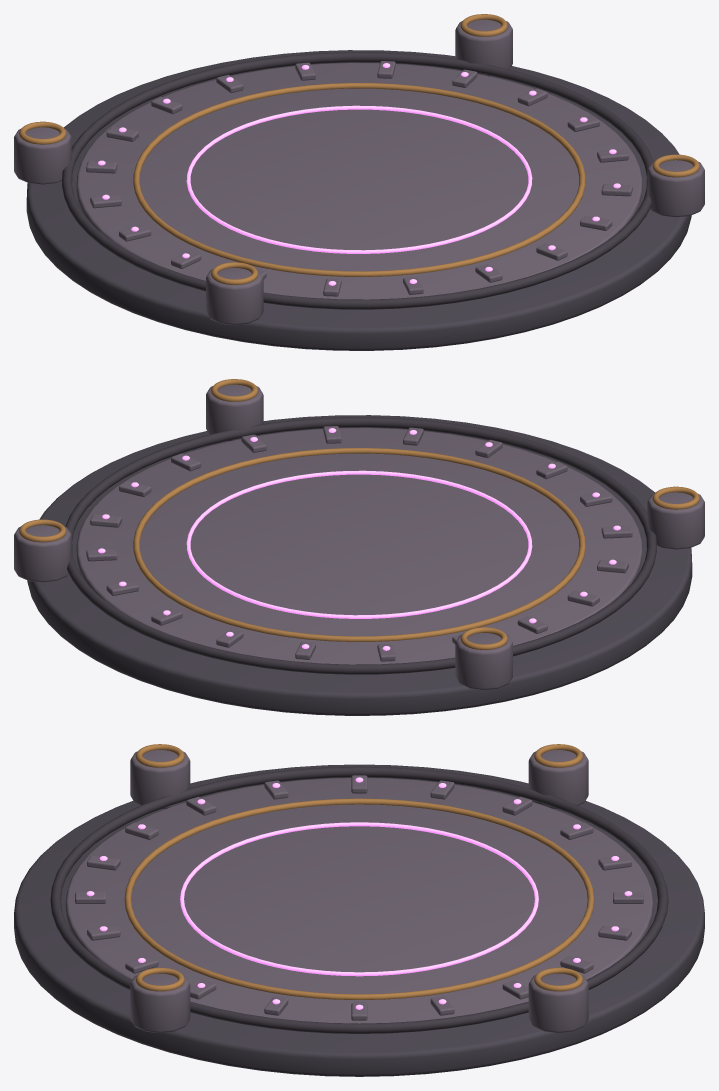
The model's file is hero-arena-dais.glb.
The picture shows the model from 3 angles, top to bottom: view 1: azimuth 30°, elevation 25°; view 2: azimuth 150°, elevation 25°; view 3: azimuth 270°, elevation 25°; orthographic projection. The views are drawn at different scales.
Parts seen in each view (by area): view 1: Arena_inner_dais, Arena_outer_dais, Arena_outer_trim, Arena_brass_circle, Arena_rune_circle, Arena_brazier_base_0, Arena_brazier_base_1, Arena_brazier_base_2, Arena_brazier_base_3, Arena_brazier_ring_1, Arena_brazier_ring_0, Arena_brazier_ring_2 (+1 smaller); view 2: Arena_inner_dais, Arena_outer_dais, Arena_outer_trim, Arena_brass_circle, Arena_rune_circle, Arena_brazier_base_2, Arena_brazier_base_3, Arena_brazier_base_0, Arena_brazier_base_1, Arena_brazier_ring_3, Arena_brazier_ring_0, Arena_brazier_ring_2 (+1 smaller); view 3: Arena_inner_dais, Arena_outer_dais, Arena_outer_trim, Arena_brass_circle, Arena_rune_circle, Arena_brazier_base_1, Arena_brazier_base_3, Arena_brazier_base_0, Arena_brazier_base_2, Arena_brazier_ring_1, Arena_brazier_ring_3, Arena_brazier_ring_0 (+1 smaller).
Part boxes in pixels (x1=…): Arena_inner_dais: x1=76, y1=63, x2=642, y2=299; Arena_outer_dais: x1=26, y1=50, x2=691, y2=350; Arena_outer_trim: x1=62, y1=52, x2=653, y2=309; Arena_brass_circle: x1=133, y1=83, x2=585, y2=276; Arena_rune_circle: x1=186, y1=105, x2=532, y2=253; Arena_brazier_base_0: x1=206, y1=268, x2=263, y2=325; Arena_brazier_base_1: x1=647, y1=160, x2=704, y2=217; Arena_brazier_base_2: x1=14, y1=127, x2=71, y2=184; Arena_brazier_base_3: x1=455, y1=19, x2=512, y2=76; Arena_brazier_ring_1: x1=652, y1=154, x2=699, y2=177; Arena_brazier_ring_0: x1=211, y1=262, x2=258, y2=284; Arena_brazier_ring_2: x1=19, y1=121, x2=66, y2=144; Arena_inner_dais: x1=76, y1=428, x2=642, y2=664; Arena_outer_dais: x1=27, y1=415, x2=692, y2=715; Arena_outer_trim: x1=65, y1=417, x2=656, y2=674; Arena_brass_circle: x1=133, y1=448, x2=585, y2=641; Arena_rune_circle: x1=186, y1=470, x2=532, y2=618; Arena_brazier_base_2: x1=455, y1=633, x2=512, y2=690; Arena_brazier_base_3: x1=14, y1=525, x2=71, y2=582; Arena_brazier_base_0: x1=647, y1=492, x2=704, y2=549; Arena_brazier_base_1: x1=206, y1=384, x2=263, y2=441; Arena_brazier_ring_3: x1=19, y1=519, x2=66, y2=542; Arena_brazier_ring_0: x1=652, y1=486, x2=699, y2=509; Arena_brazier_ring_2: x1=460, y1=627, x2=507, y2=649; Arena_inner_dais: x1=65, y1=778, x2=653, y2=1023; Arena_outer_dais: x1=14, y1=764, x2=704, y2=1076; Arena_outer_trim: x1=50, y1=766, x2=668, y2=1033; Arena_brass_circle: x1=124, y1=798, x2=594, y2=999; Arena_rune_circle: x1=180, y1=822, x2=538, y2=976; Arena_brazier_base_1: x1=130, y1=973, x2=190, y2=1033; Arena_brazier_base_3: x1=528, y1=973, x2=588, y2=1033; Arena_brazier_base_0: x1=130, y1=750, x2=190, y2=808; Arena_brazier_base_2: x1=528, y1=750, x2=588, y2=808; Arena_brazier_ring_1: x1=135, y1=967, x2=184, y2=991; Arena_brazier_ring_3: x1=534, y1=967, x2=583, y2=991; Arena_brazier_ring_0: x1=135, y1=744, x2=184, y2=767.
Bounding box in the file's own units: 11.1 × 1.2 × 11.1.
